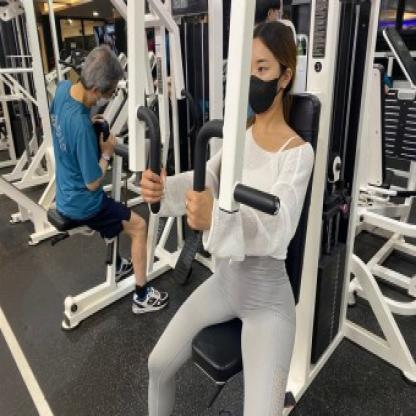chest fly machine: (115, 8, 416, 415)
